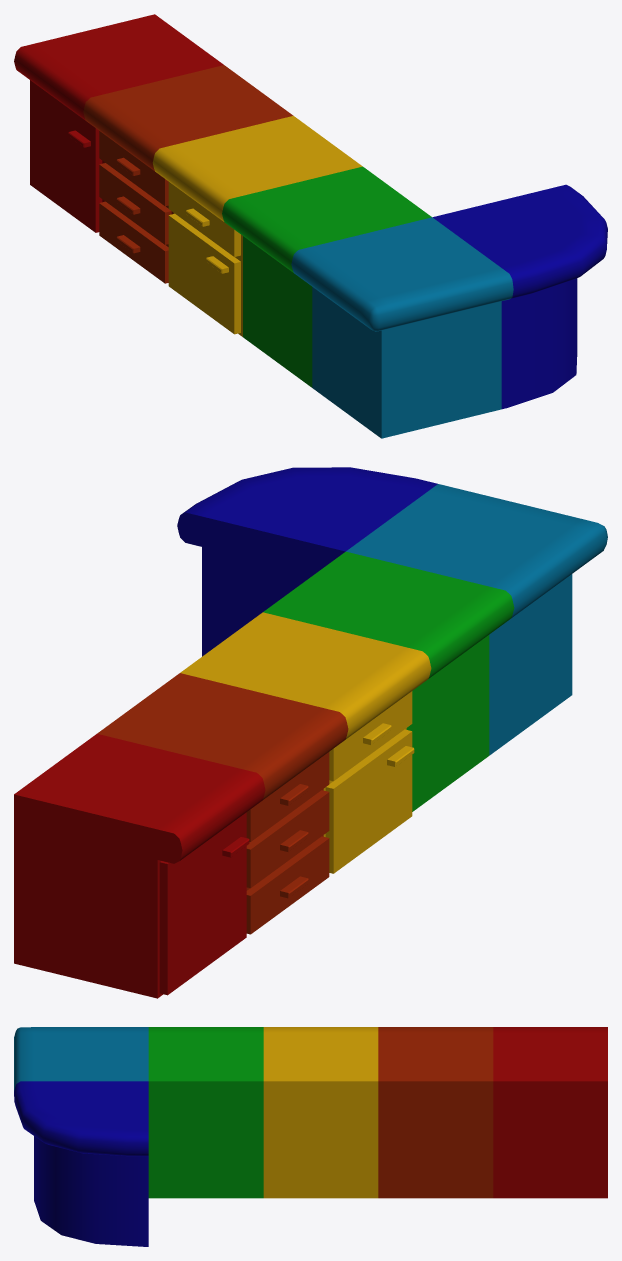
File: Cabinets.fbx
3 renders of one model, top to bottom at view 1: azimuth 30°, elevation 25°; view 2: azimuth 150°, elevation 25°; view 3: azimuth 270°, elevation 25°, orthographic. The views are drawn at different scales.
Visible parts, largest first — view 1: Cabinet_Corner, Cabinet_Rounded, Cabinet_Drawer_Cupboard, Cabinet_Cupboard, Cabinet_Drawer, Cabinet; view 2: Cabinet_Cupboard, Cabinet_Corner, Cabinet_Drawer_Cupboard, Cabinet_Drawer, Cabinet, Cabinet_Rounded; view 3: Cabinet_Drawer, Cabinet, Cabinet_Drawer_Cupboard, Cabinet_Cupboard, Cabinet_Rounded, Cabinet_Corner.
Boxes of the visible parts, bbox=[...] form: Cabinet_Corner: bbox=[291, 217, 513, 438]; Cabinet_Rounded: bbox=[432, 184, 607, 409]; Cabinet_Drawer_Cupboard: bbox=[152, 116, 362, 336]; Cabinet_Cupboard: bbox=[14, 14, 223, 232]; Cabinet_Drawer: bbox=[83, 65, 293, 283]; Cabinet: bbox=[222, 166, 431, 387]; Cabinet_Cupboard: bbox=[14, 734, 265, 998]; Cabinet_Corner: bbox=[346, 484, 607, 755]; Cabinet_Drawer_Cupboard: bbox=[180, 612, 431, 873]; Cabinet_Drawer: bbox=[97, 673, 348, 934]; Cabinet: bbox=[263, 551, 514, 811]; Cabinet_Rounded: bbox=[177, 467, 437, 656]; Cabinet_Drawer: bbox=[378, 1027, 493, 1198]; Cabinet: bbox=[148, 1027, 263, 1198]; Cabinet_Drawer_Cupboard: bbox=[263, 1027, 378, 1198]; Cabinet_Cupboard: bbox=[493, 1027, 607, 1198]; Cabinet_Rounded: bbox=[14, 1081, 148, 1246]; Cabinet_Corner: bbox=[14, 1027, 148, 1090].
Size of the model in its own units: 117 by 56.25 by 259.
